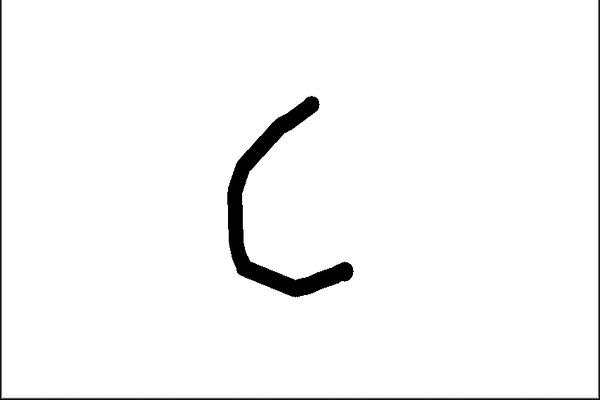C: (220, 87, 363, 297)
